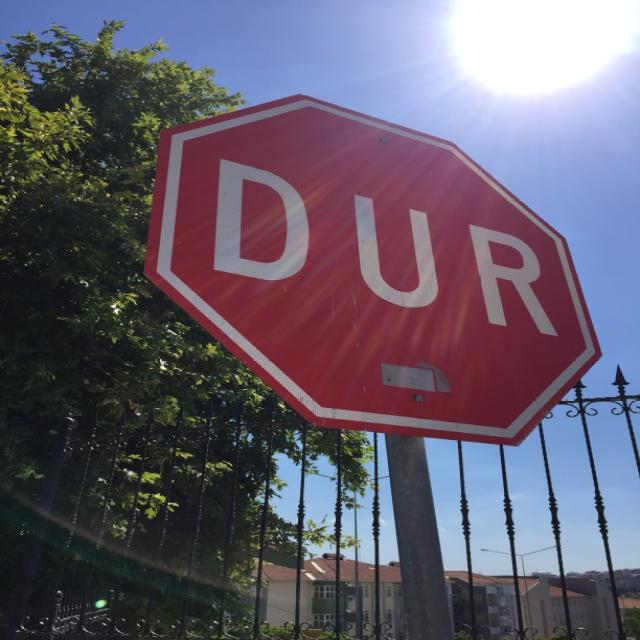dur: (144, 95, 603, 446)
